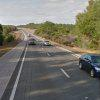Car: (75, 48, 100, 88)
